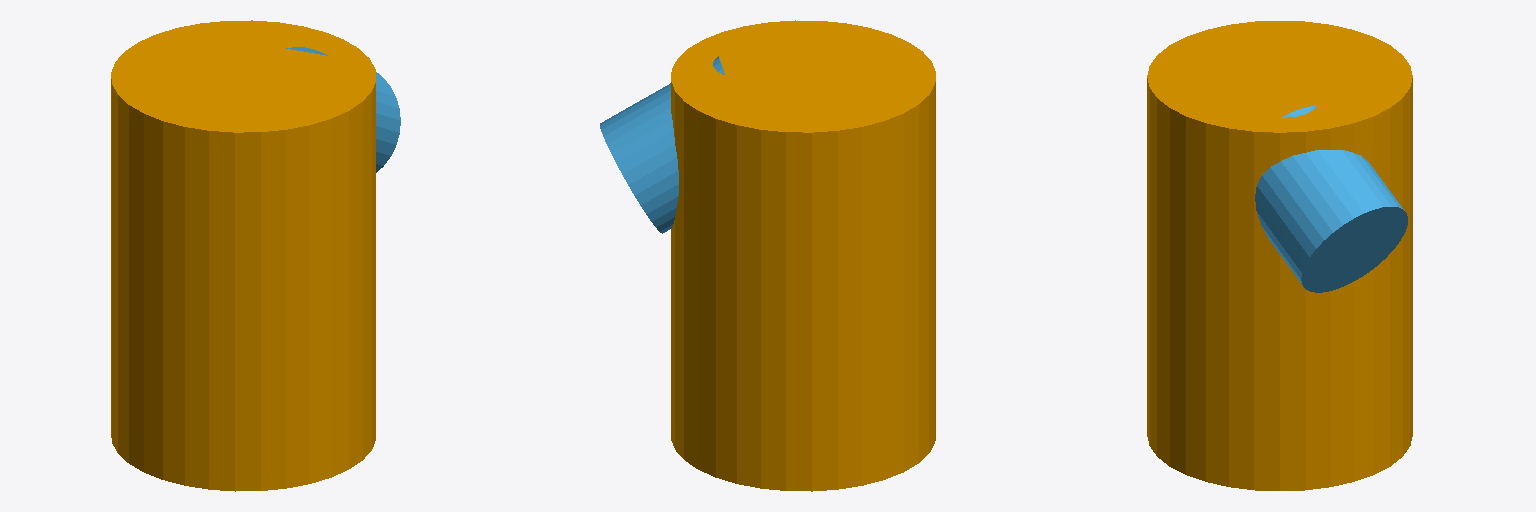
robot.urdf — pepe:
<?xml version="1.0"?><robot name="pepe">
	<link name="0">
		<visual>
			<geometry>
				<cylinder length="2.9780468539074367" radius="0.9999"/>
			</geometry>
		</visual>
		<collision>
			<geometry>
				<cylinder length="2.9780468539074367" radius="0.9999"/>
			</geometry>
		</collision>
		<inertial>
			<mass value="9.353939049816244"/>
			<inertia ixx="0.03" iyy="0.03" izz="0.03" ixy="0" ixz="0" iyx="0"/>
		</inertial>
	</link>
	<link name="11">
		<visual>
			<geometry>
				<cylinder length="1.0346835303226454" radius="0.4777439274024624"/>
			</geometry>
		</visual>
		<collision>
			<geometry>
				<cylinder length="1.0346835303226454" radius="0.4777439274024624"/>
			</geometry>
		</collision>
		<inertial>
			<mass value="0.7419040806495596"/>
			<inertia ixx="0.03" iyy="0.03" izz="0.03" ixy="0" ixz="0" iyx="0"/>
		</inertial>
	</link>
	<joint name="11_to_0" type="revolute">
		<parent link="0"/>
		<child link="11"/>
		<axis xyz="1 0 0"/>
		<limit effort="1" upper="-3.1415" lower="3.1415" velocity="1"/>
		<origin rpy="3.497041928415827 1.025135261970043 4.212271815682176" xyz="0.812562932175465 0.2854361094554081 0.8492856931670694"/>
	</joint>
</robot>

--- Render facts (derived) ---
The picture shows the robot from 3 angles, left to right: view 1: azimuth 30°, elevation 25°; view 2: azimuth 150°, elevation 25°; view 3: azimuth 270°, elevation 25°; orthographic projection.
Robot: pepe — 2 links, 1 joints (1 revolute); root link 0; default pose: all joints at 0.
Links seen in each view (by area): view 1: 0, 11; view 2: 0, 11; view 3: 0, 11.
Boxes of the visible links, box(x1,y1,x2,y2) form: 0: box(111, 20, 375, 491); 11: box(286, 47, 400, 172); 0: box(671, 20, 935, 491); 11: box(600, 56, 724, 233); 0: box(1147, 21, 1412, 490); 11: box(1255, 106, 1407, 292).
Size in the robot's own frame: 2.51 by 2 by 3.01 metres.
Geometry: primitives only (box / cylinder / sphere), no mesh files.
